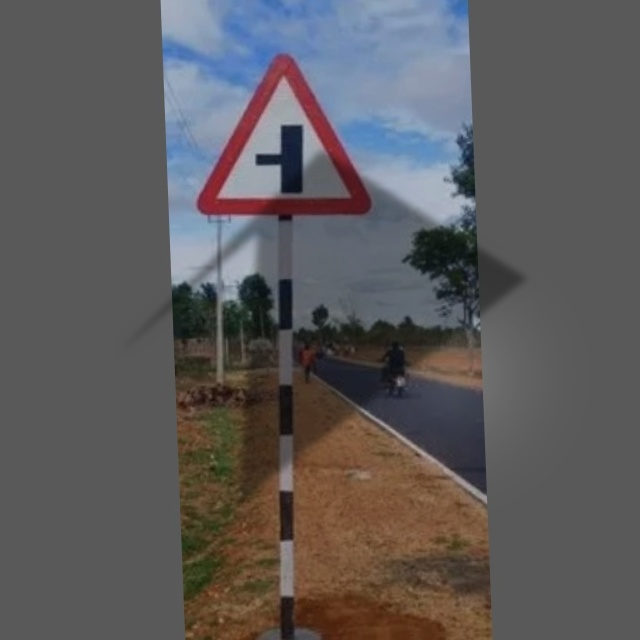Side_Road_Left: (197, 48, 373, 227)
